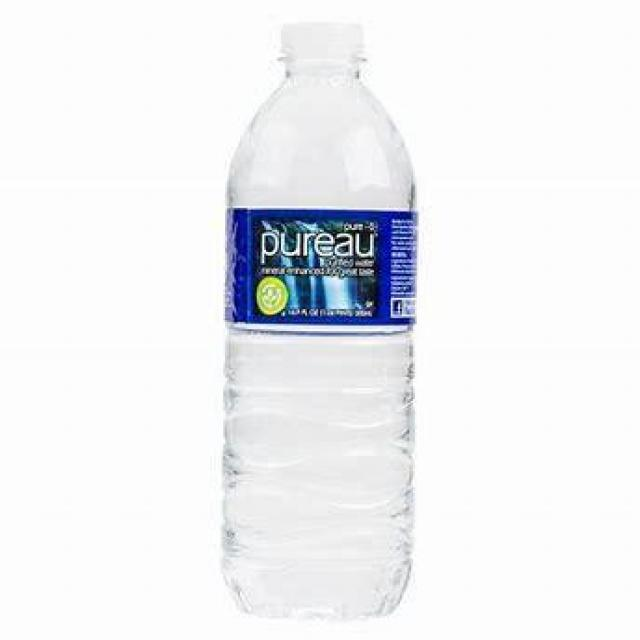bottle: (197, 7, 432, 608)
